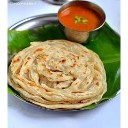parota: (9, 40, 110, 103)
